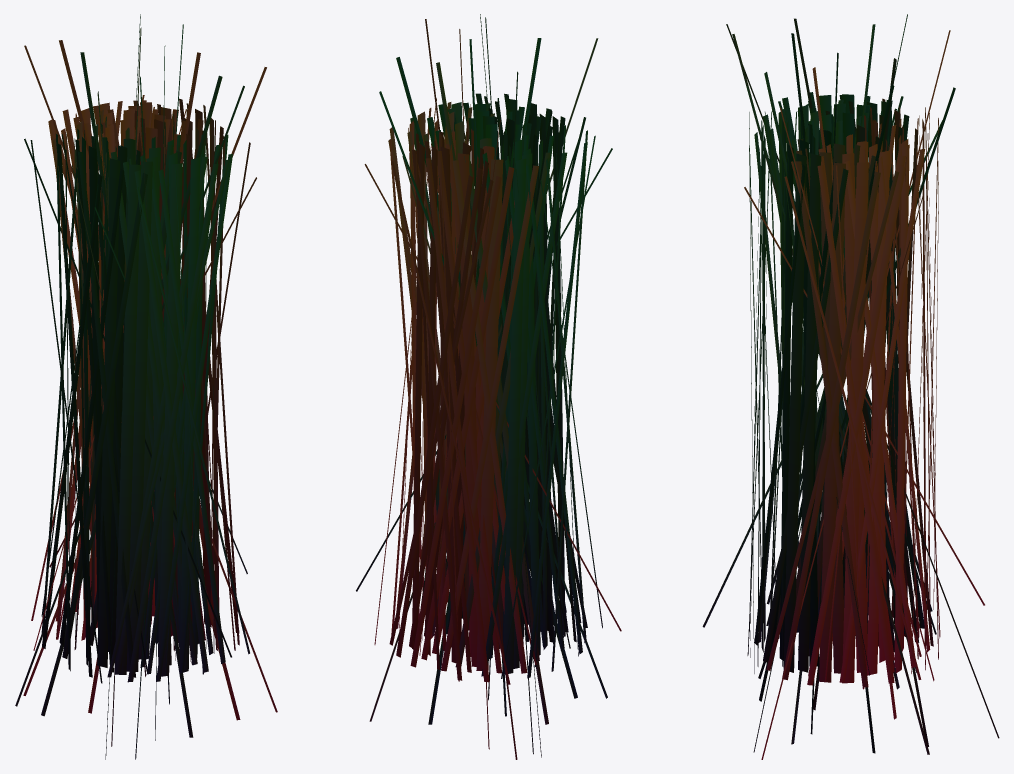
Rendered from LilyForestMerged2.fbx.
3 views of the same model, side by side, from view 1: azimuth 30°, elevation 25°; view 2: azimuth 150°, elevation 25°; view 3: azimuth 270°, elevation 25° (orthographic).
Parts seen in each view (by area): view 1: Forest; view 2: Forest; view 3: Forest.
Part boxes in pixels (box(x1,y1,x2,y2)): Forest: box(15, 14, 277, 759); Forest: box(356, 14, 621, 759); Forest: box(702, 14, 999, 759).
Bounding box in the file's own units: 75.88 × 200 × 77.66.
